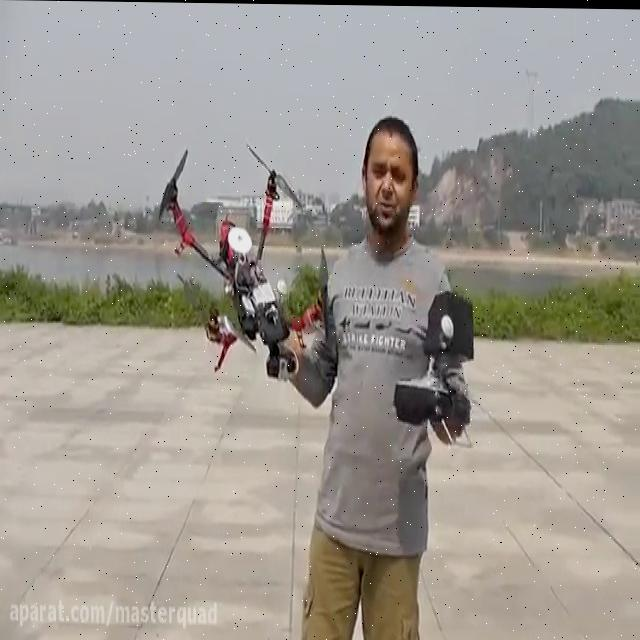drone: (156, 137, 332, 381)
